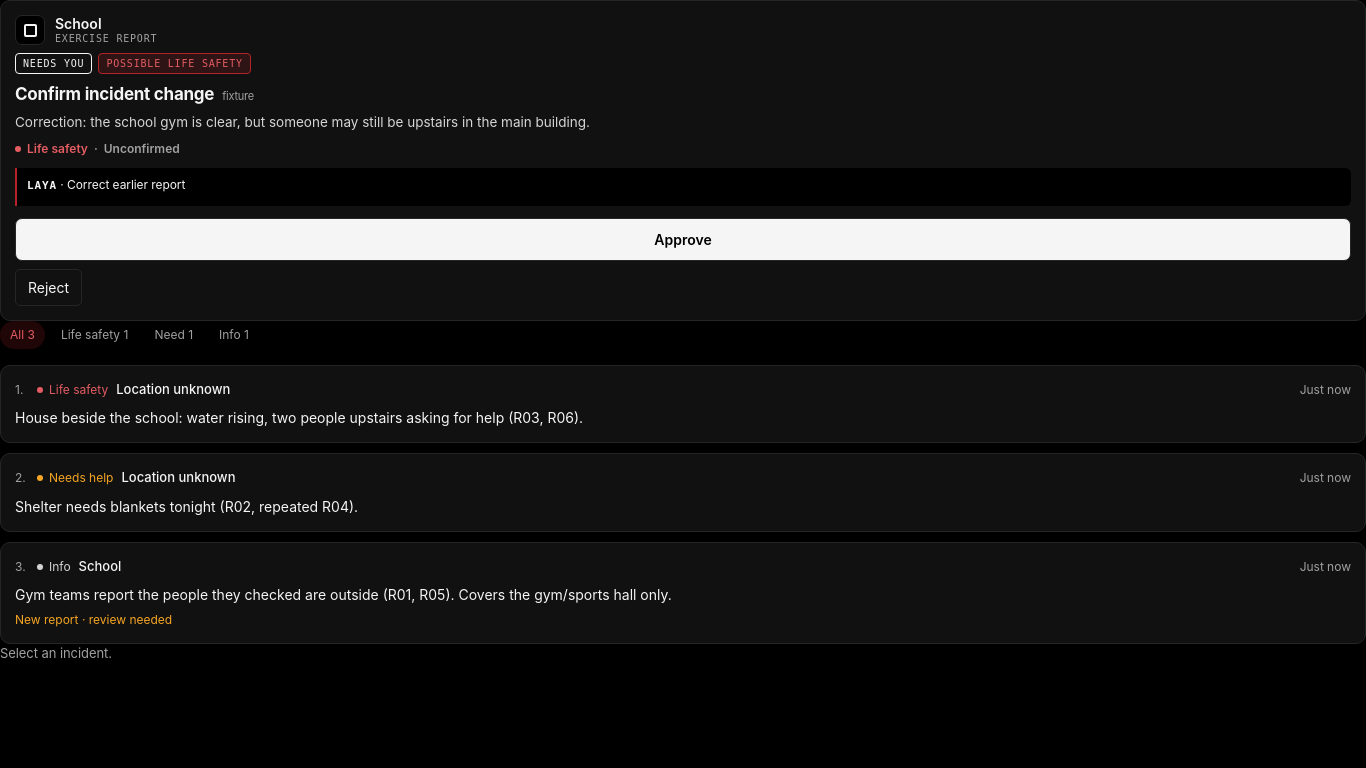
Test case: keeps metadata in collapsed Details on only the selected review card
The image size is (1366, 768).
Expected: the text "Details" is not shown
Step 1. Click the button that starts with "School" → click(683, 87), box [15,15,1351,158]
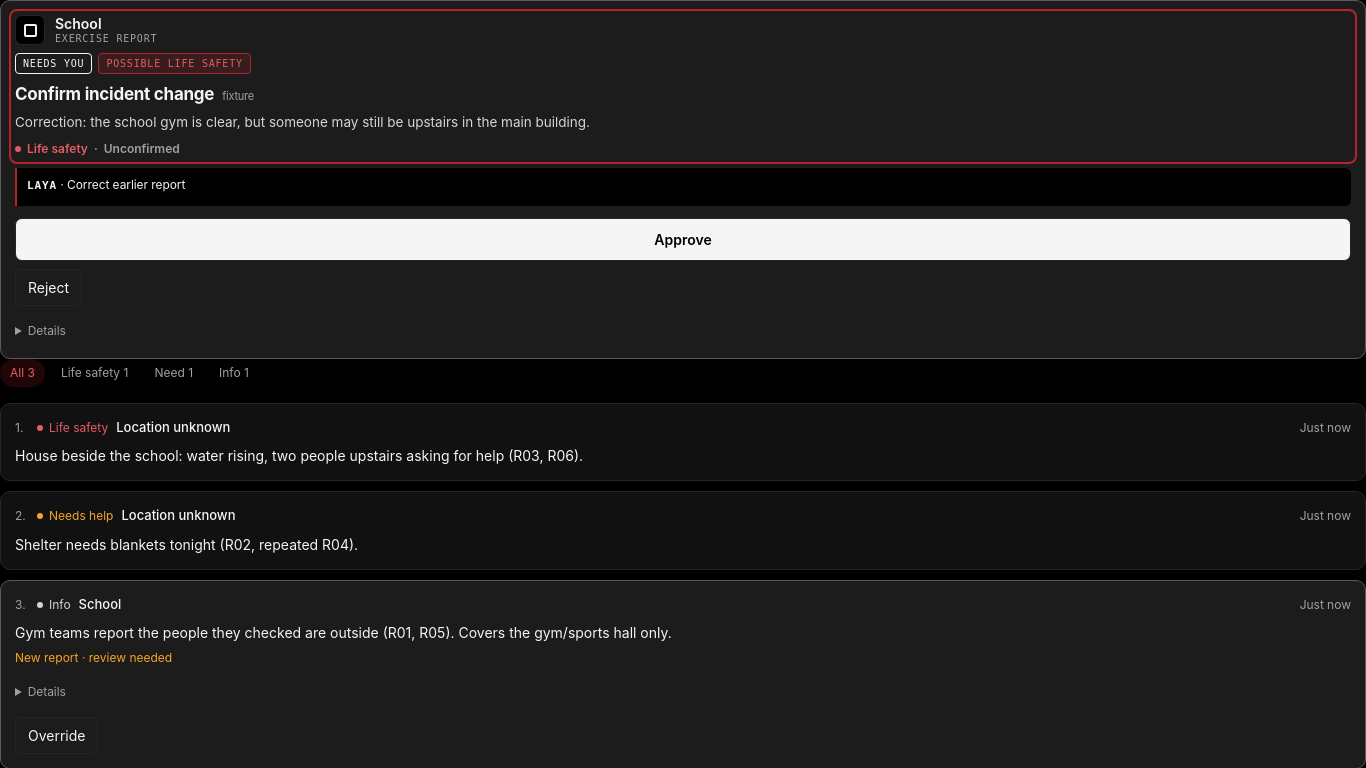
Step 2. Click the heading "Details" below "Laya" → click(47, 330), box [28,323,66,338]
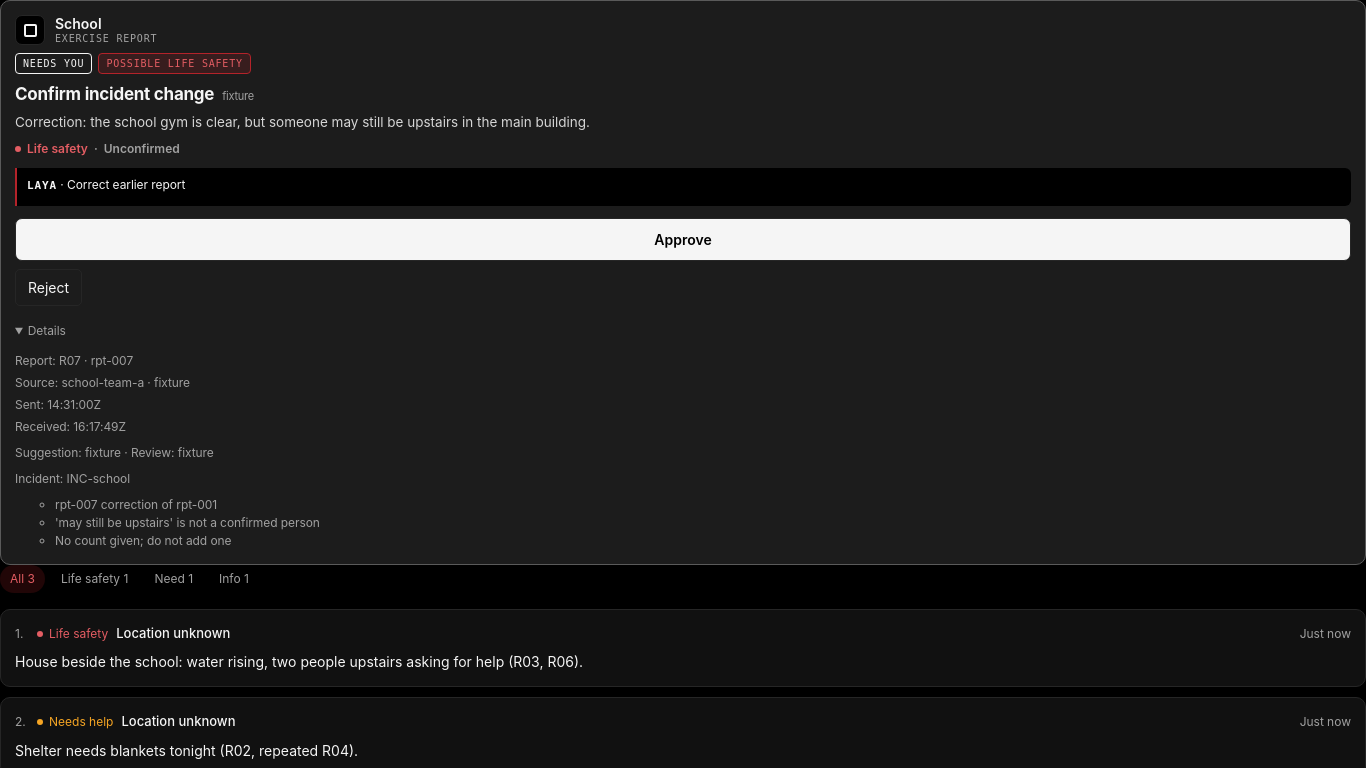
Result: the text "Details" shows "Report: R07" at [15,323,320,548]
Result: the text "Details" shows "fixture" at [154,375,190,390]
Result: the text "Details" shows "correction" at [101,497,158,512]
